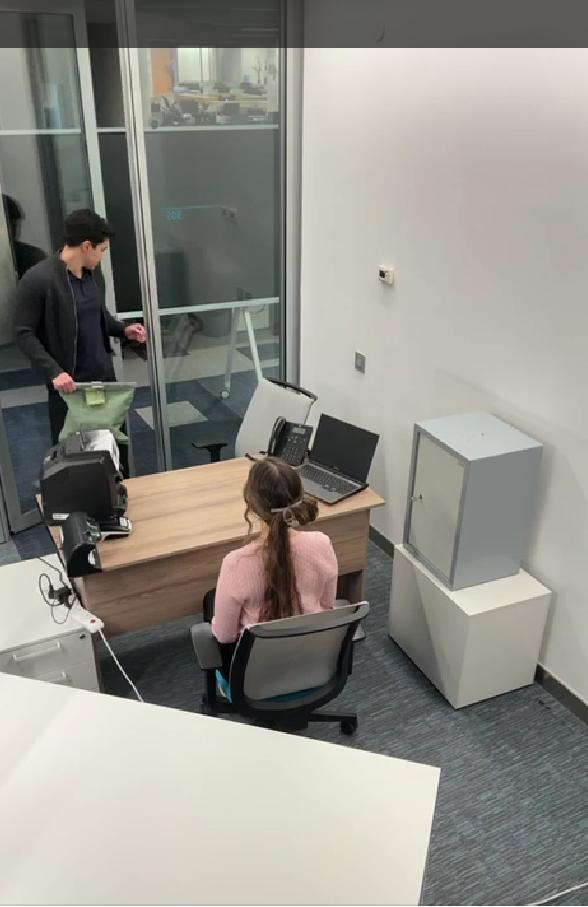cash-in-transit bag: (40, 374, 151, 467)
counter: (40, 434, 151, 530)
door_open: (54, 6, 193, 472)
key_in: (400, 474, 434, 520)
uv_lamp: (42, 498, 113, 584)
